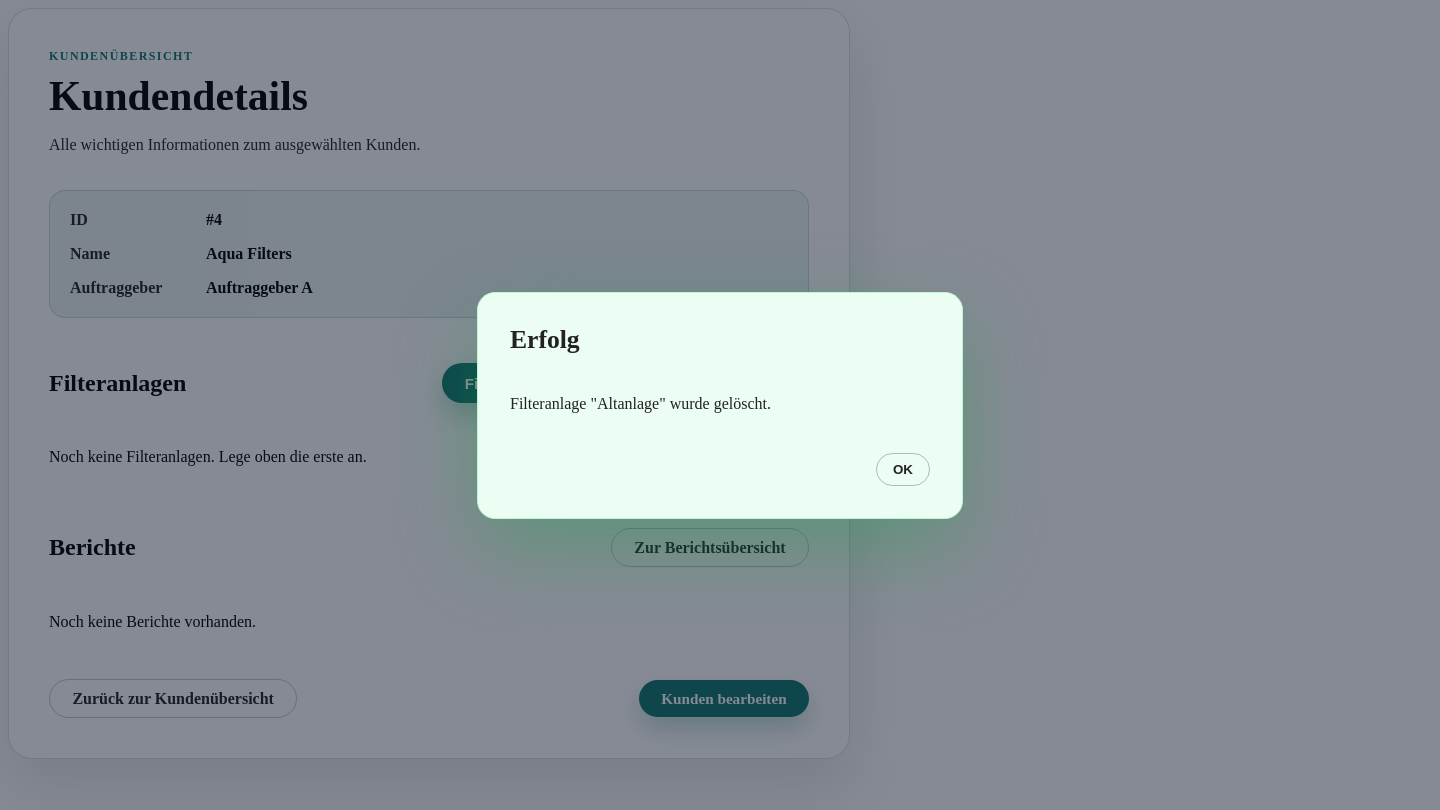
Test case: CustomerDetailPage › should show deleted plant success from history state and dismiss modal
The width and height of the screenshot is (1440, 810).
Click the button with class "ghost-button" at (903, 469), box [876,452,930,486]
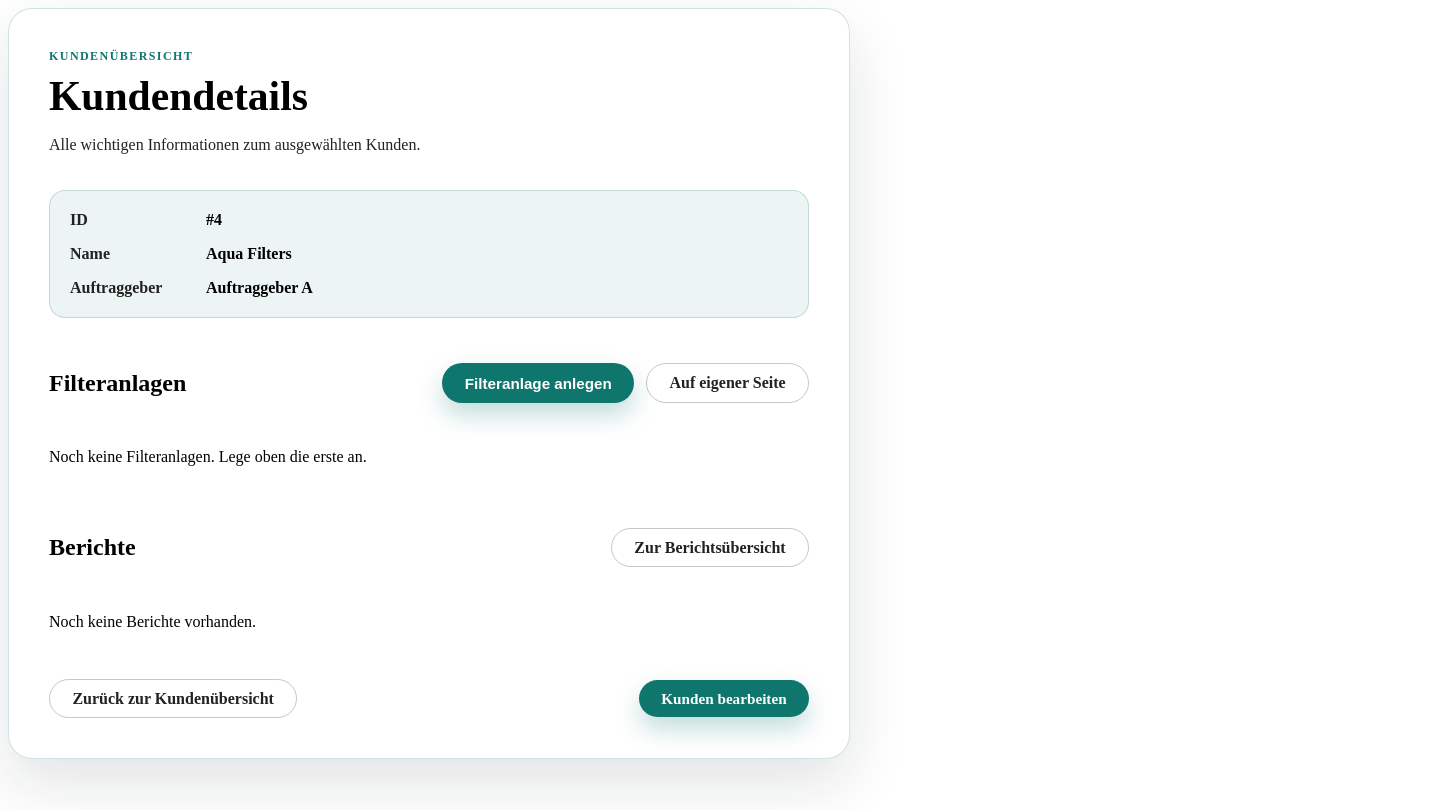
Expected: the text "Filteranlage \"Altanlage\" wurde gelöscht." is gone
